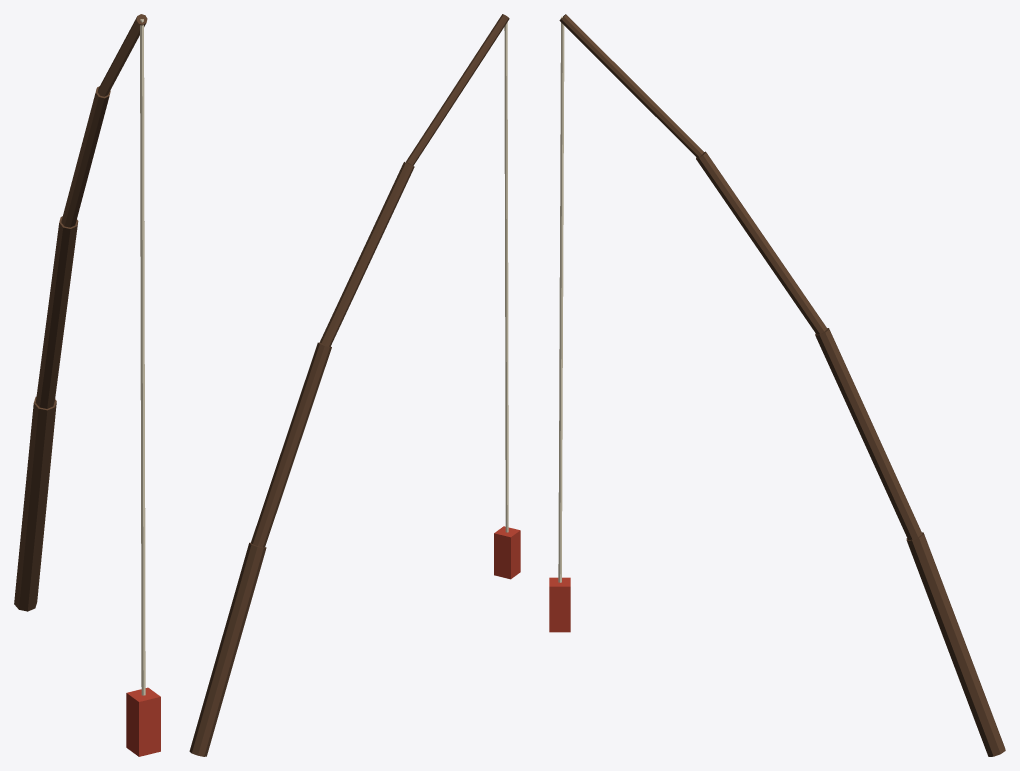
The model's file is main_fishing_deck__fishing_rod.glb.
The picture shows the model from 3 angles, left to right: view 1: azimuth 30°, elevation 25°; view 2: azimuth 150°, elevation 25°; view 3: azimuth 270°, elevation 25°; orthographic projection. The views are drawn at different scales.
Parts seen in each view (by area): view 1: fishing_rod__wood_dark.001, fishing_rod__cream.001, fishing_rod__red.001; view 2: fishing_rod__wood_dark.001, fishing_rod__cream.001, fishing_rod__red.001; view 3: fishing_rod__wood_dark.001, fishing_rod__cream.001, fishing_rod__red.001.
Boxes of the visible parts, <box> form: fishing_rod__wood_dark.001: <box>14,14,147,611</box>; fishing_rod__cream.001: <box>140,19,145,695</box>; fishing_rod__red.001: <box>126,687,160,756</box>; fishing_rod__wood_dark.001: <box>189,14,509,756</box>; fishing_rod__cream.001: <box>504,16,508,532</box>; fishing_rod__red.001: <box>494,526,520,579</box>; fishing_rod__wood_dark.001: <box>559,14,1005,756</box>; fishing_rod__cream.001: <box>558,16,564,582</box>; fishing_rod__red.001: <box>549,577,570,632</box>.
Size of the model in its own units: 0.5606 by 2.68 by 1.62.
